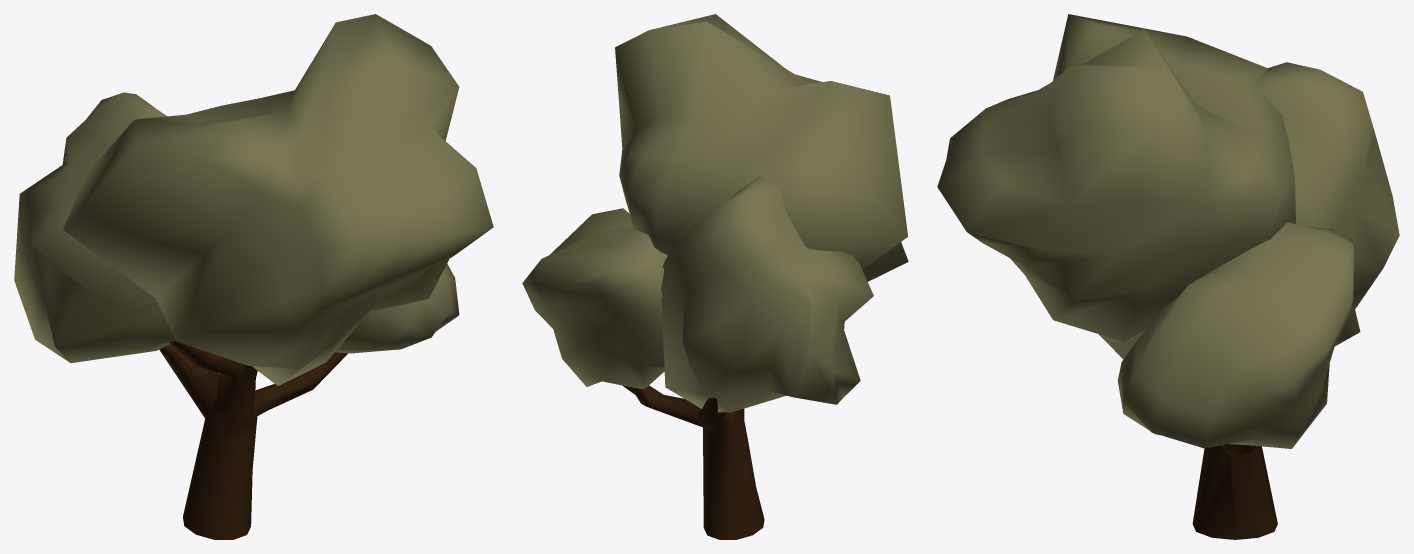
File: DM_Tree2.fbx
3 renders of one model, left to right at view 1: azimuth 30°, elevation 25°; view 2: azimuth 150°, elevation 25°; view 3: azimuth 270°, elevation 25°, orthographic. The views are drawn at different scales.
Visible parts, largest first — view 1: Veg1, Veg2, Trunk1, Veg; view 2: Veg1, Veg2, Veg, Trunk1; view 3: Veg1, Veg, Veg2, Trunk1.
Part boxes in pixels (left/top/right/bottom): Veg1: left=63, top=14, right=493, bottom=385; Veg2: left=14, top=92, right=175, bottom=362; Trunk1: left=159, top=341, right=347, bottom=539; Veg: left=335, top=263, right=459, bottom=353; Veg1: left=615, top=14, right=908, bottom=281; Veg2: left=661, top=176, right=873, bottom=412; Veg: left=522, top=208, right=667, bottom=389; Trunk1: left=622, top=385, right=764, bottom=539; Veg1: left=937, top=14, right=1295, bottom=359; Veg: left=1117, top=222, right=1354, bottom=448; Veg2: left=1255, top=62, right=1399, bottom=346; Trunk1: left=1192, top=444, right=1277, bottom=539.
Bounding box in the file's own units: 4.53 × 5.79 × 4.53.
